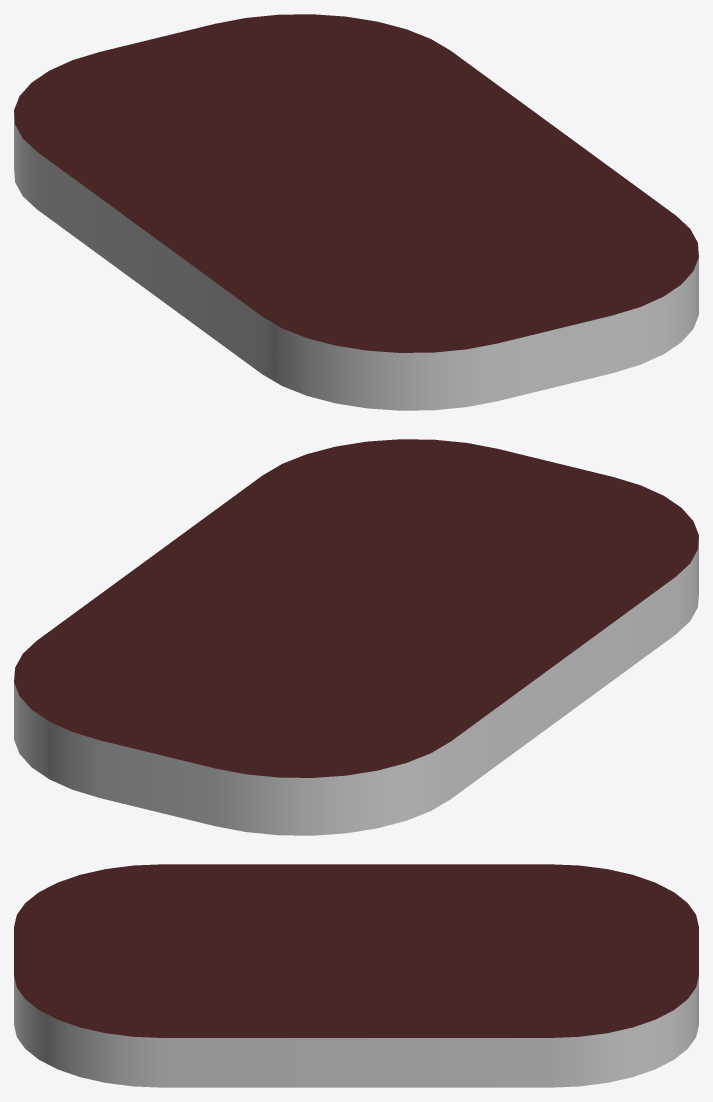
The model's file is CubeForHighFloorSmooth_02.fbx.
3 views of the same model, one above another, from view 1: azimuth 30°, elevation 25°; view 2: azimuth 150°, elevation 25°; view 3: azimuth 270°, elevation 25° (orthographic). The views are drawn at different scales.
Visible parts, largest first — view 1: Cube; view 2: Cube; view 3: Cube.
Part boxes in pixels (x1,y1,x2,y2): Cube: (14, 14, 698, 410); Cube: (14, 439, 698, 835); Cube: (14, 864, 698, 1087).
Bounding box in the file's own units: 600 × 80 × 1000.
